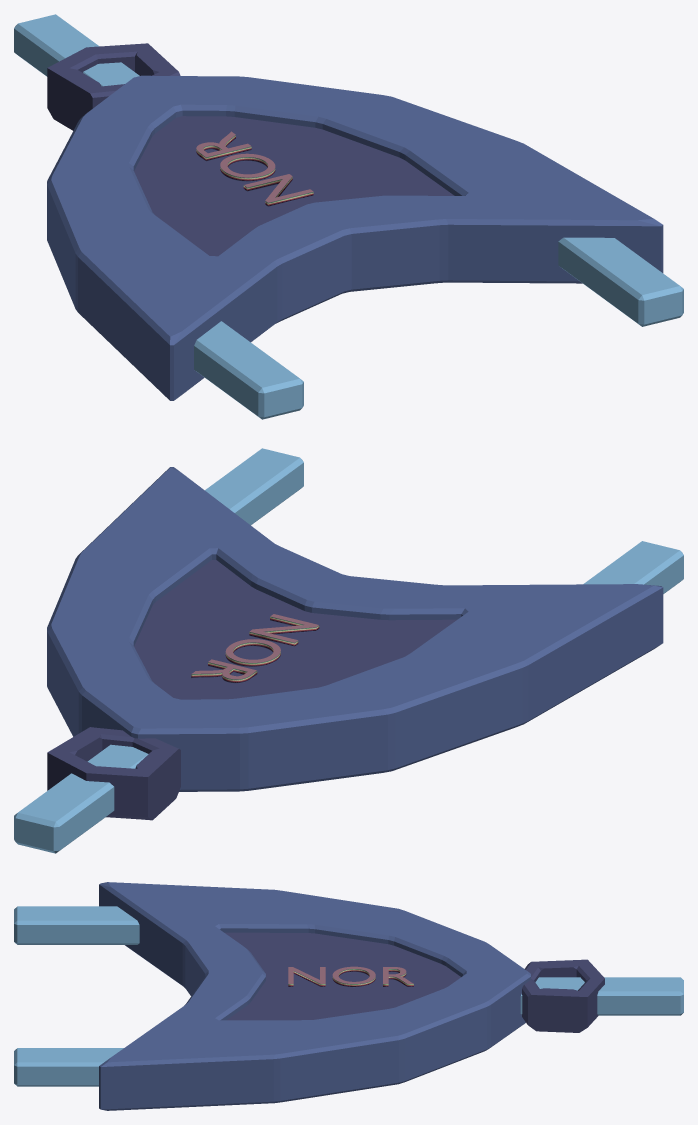
File: Assets_Gates.fbx_NOR.fbx
3 views of the same model, one above another, from view 1: azimuth 30°, elevation 25°; view 2: azimuth 150°, elevation 25°; view 3: azimuth 270°, elevation 25° (orthographic). The views are drawn at different scales.
Parts seen in each view (by area): view 1: OR, N.002, Text.001; view 2: OR, N.002, Text.001; view 3: OR, N.002, Text.001.
Boxes of the visible parts, <box> form: OR: <box>14,14,683,419</box>; N.002: <box>47,43,180,130</box>; Text.001: <box>196,131,313,206</box>; OR: <box>14,448,683,853</box>; N.002: <box>47,727,180,820</box>; Text.001: <box>191,614,319,683</box>; OR: <box>14,882,683,1110</box>; N.002: <box>522,959,604,1032</box>; Text.001: <box>288,966,413,987</box>.
Size of the model in its own units: 260 by 32 by 400.
